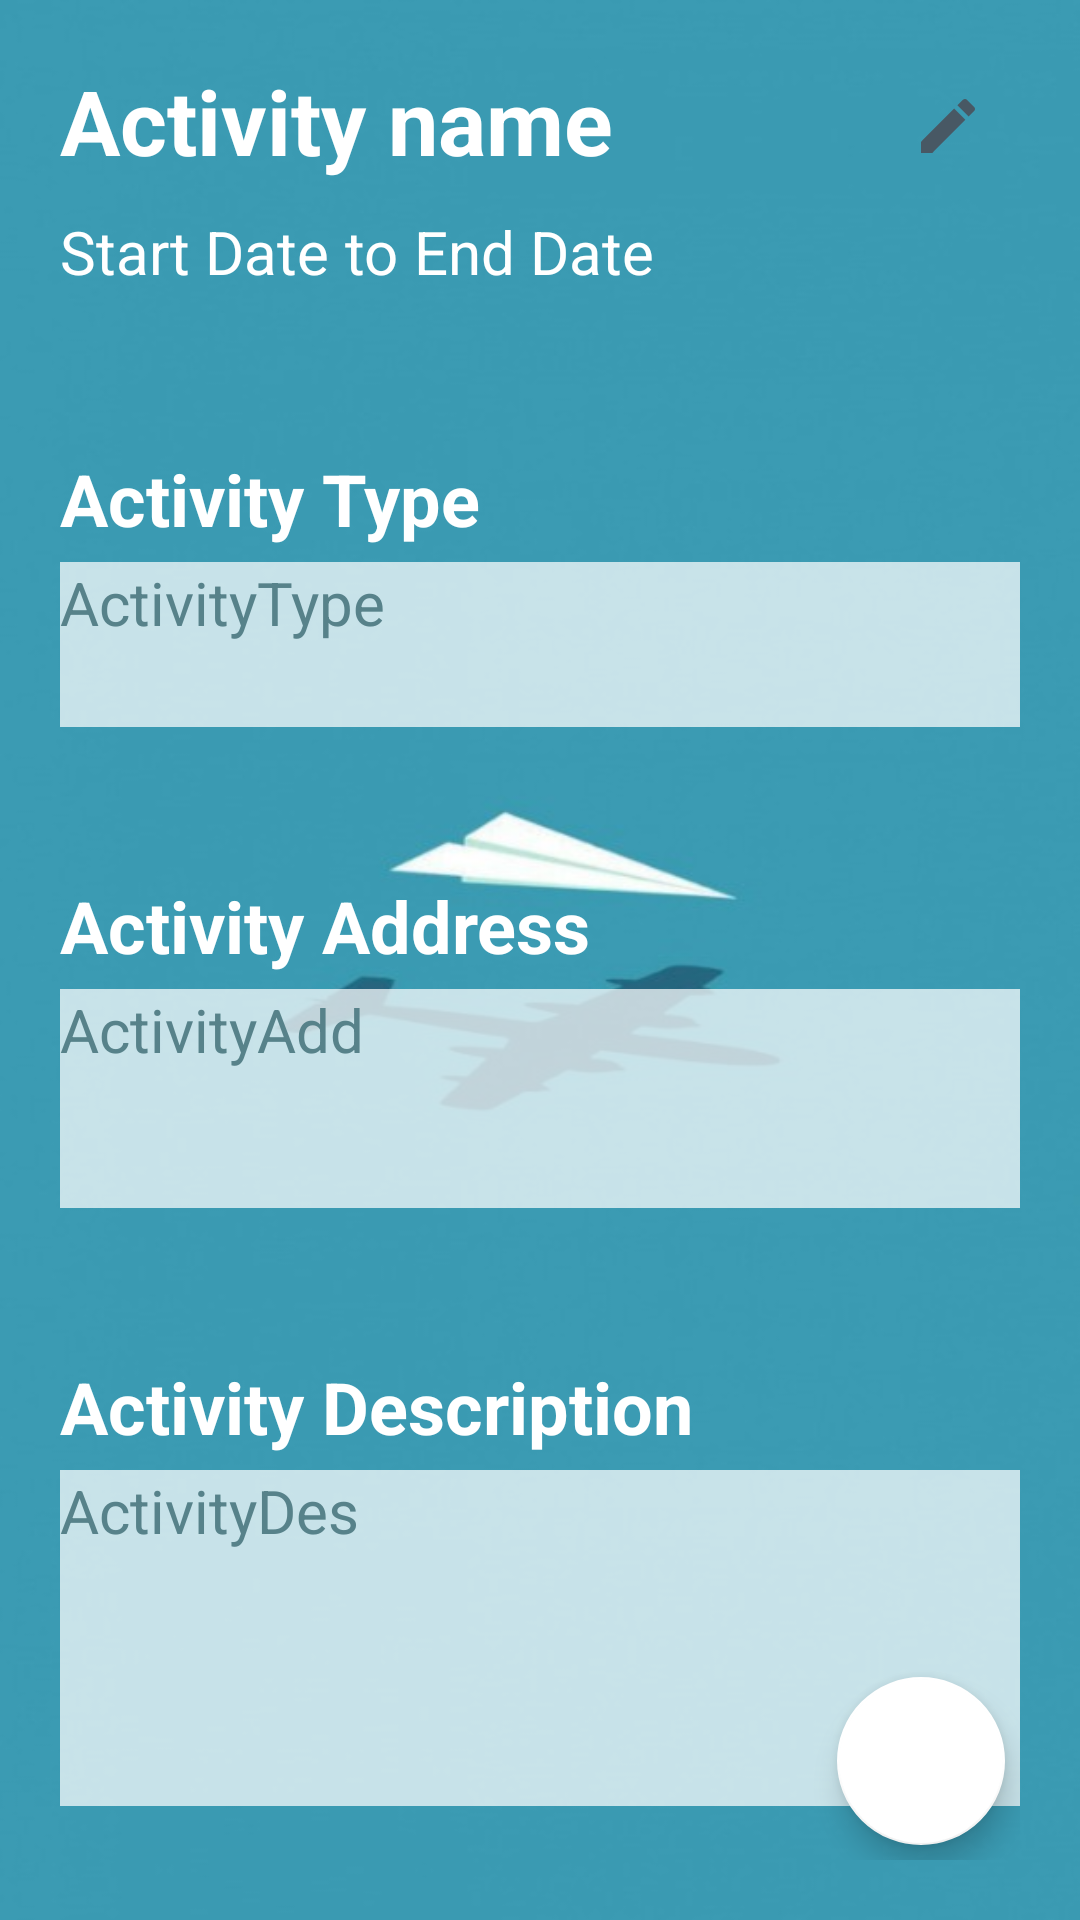

Screen size 1080w x 1920h. Icon name, then its center in pixels as (x=x, y=y):
edit: (x=948, y=126)
